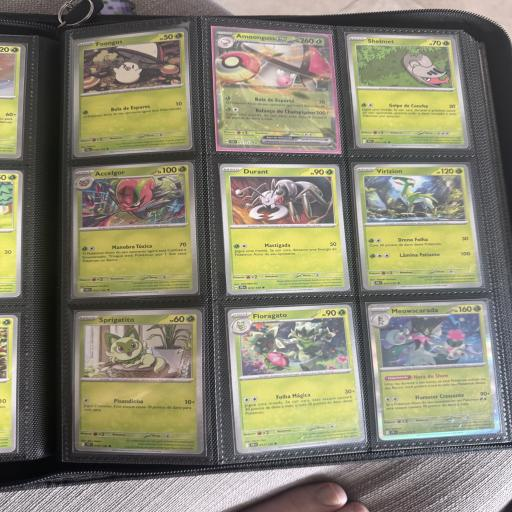card: (226, 301, 367, 454), (366, 291, 500, 444), (73, 307, 207, 454), (65, 161, 202, 300), (219, 156, 351, 299), (352, 154, 484, 297), (210, 28, 341, 151), (73, 27, 194, 158), (345, 34, 472, 149)
